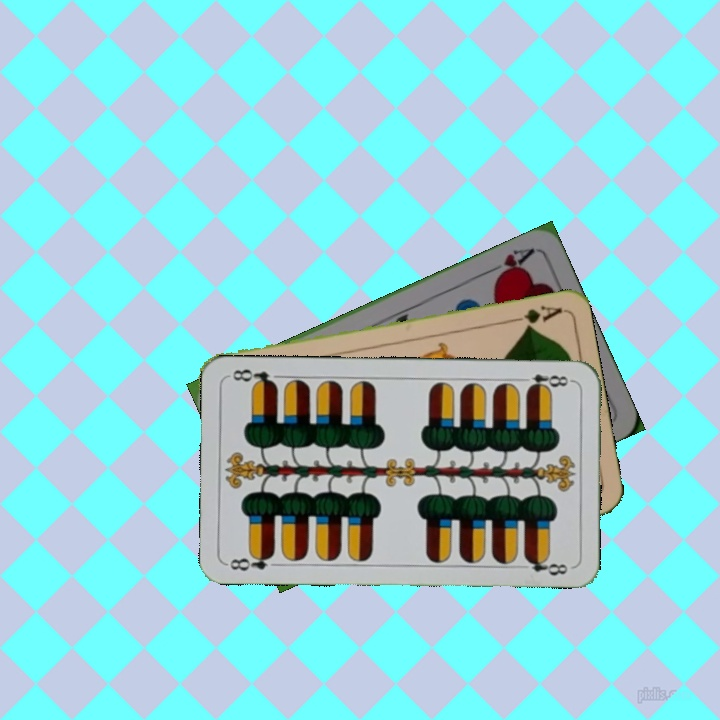E8: (516, 370, 575, 393), (224, 549, 277, 574)
GA: (506, 301, 564, 331)
HA: (481, 244, 537, 283)
